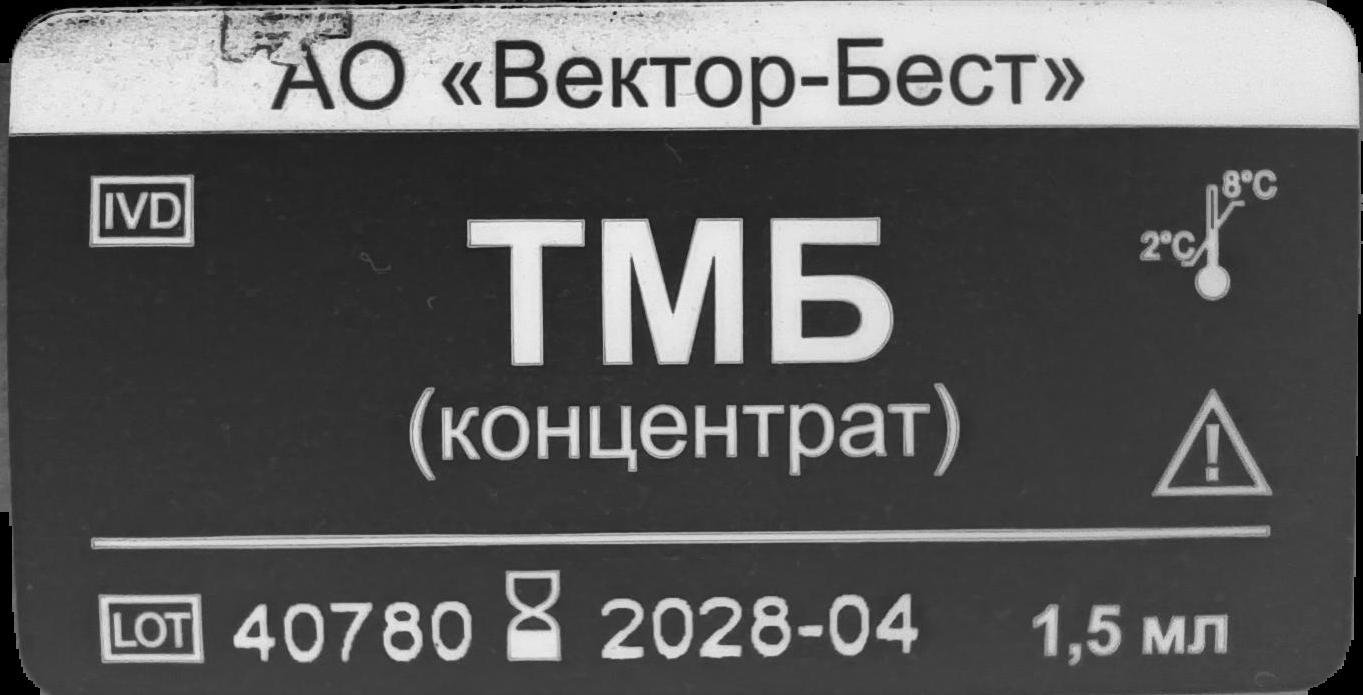something: (1136, 167, 1283, 304), (1144, 382, 1281, 503), (84, 170, 199, 252), (96, 590, 211, 671), (501, 567, 567, 666)
text: (400, 199, 966, 492), (272, 29, 1089, 126), (601, 593, 923, 669), (227, 596, 477, 667), (1029, 597, 1234, 667)
